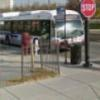buses: (0, 8, 84, 53)
